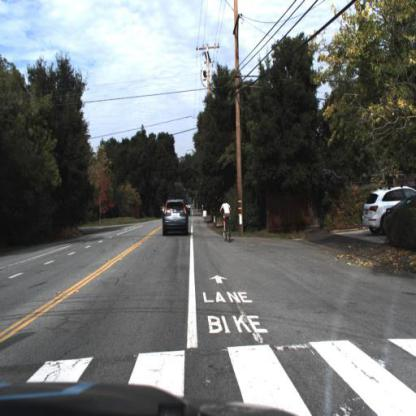biker: (216, 194, 239, 251)
car: (159, 191, 195, 241)
